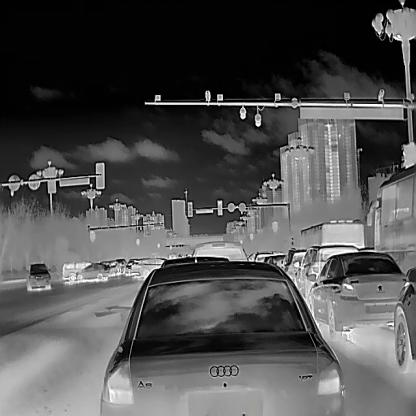bus: (366, 164, 416, 292), (299, 219, 365, 262)
car: (97, 255, 346, 415), (306, 251, 410, 342), (293, 244, 363, 304), (394, 266, 415, 373), (190, 240, 248, 261), (282, 246, 306, 288), (129, 257, 168, 278), (61, 261, 96, 281), (26, 262, 51, 290), (74, 262, 110, 280), (264, 252, 286, 266), (125, 257, 140, 275), (253, 250, 272, 262), (114, 258, 127, 273), (108, 260, 121, 275)
